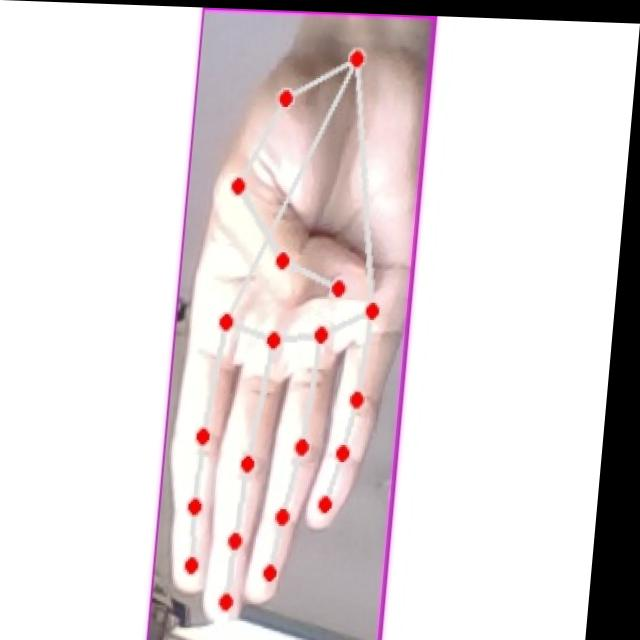B: (173, 30, 423, 632)
